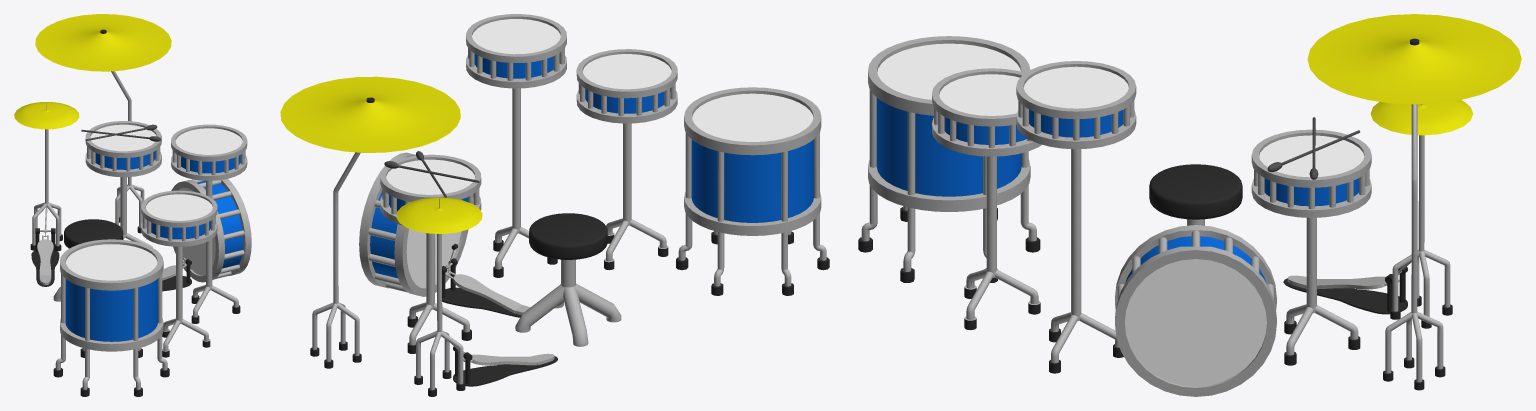
The model's file is drums.fbx.
The picture shows the model from 3 angles, left to right: view 1: azimuth 30°, elevation 25°; view 2: azimuth 150°, elevation 25°; view 3: azimuth 270°, elevation 25°; orthographic projection. The views are drawn at different scales.
Visible parts, largest first — view 1: Floor_Tom, Crash, Tom2, Tom1, Kick, Snare, Hi-Hat, Stool, Hi-Hat_Pedal, Pedal.001, Drumsticks, Kick_Pedal; view 2: Floor_Tom, Crash, Tom1, Tom2, Stool, Snare, Kick, Hi-Hat, Hi-Hat_Pedal, Kick_Pedal, Pedal, Pedal.001 (+1 smaller); view 3: Kick, Floor_Tom, Crash, Tom1, Snare, Tom2, Hi-Hat, Stool, Hi-Hat_Pedal, Pedal.001, Drumsticks.
Boxes of the visible parts, x1,y1,x2,y2 form: Floor_Tom: (53,239,169,396); Crash: (35,14,171,233); Tom2: (141,190,217,357); Tom1: (171,124,247,323); Kick: (171,179,251,282); Snare: (85,121,161,247); Hi-Hat: (14,102,79,251); Stool: (53,219,123,301); Hi-Hat_Pedal: (31,228,59,286); Pedal.001: (37,206,53,275); Drumsticks: (81,124,160,141); Kick_Pedal: (162,256,191,291); Floor_Tom: (676,87,829,295); Crash: (280,76,460,368); Tom1: (466,14,566,277); Tom2: (576,49,677,270); Stool: (515,213,621,346); Snare: (380,154,481,353); Kick: (359,152,468,296); Hi-Hat: (396,197,482,396); Hi-Hat_Pedal: (453,346,557,386); Kick_Pedal: (442,258,530,317); Pedal: (445,243,522,313); Pedal.001: (450,343,537,365); Kick: (1115,225,1276,396); Floor_Tom: (858,36,1040,282); Crash: (1307,14,1521,390); Tom1: (1016,61,1136,373); Snare: (1251,129,1371,365); Tom2: (932,68,1041,330); Hi-Hat: (1370,100,1473,328); Stool: (1149,164,1242,225); Hi-Hat_Pedal: (1283,267,1407,314); Pedal.001: (1317,261,1411,289); Drumsticks: (1267,117,1360,179).
Bounding box in the file's own units: 446 × 352 × 670.
